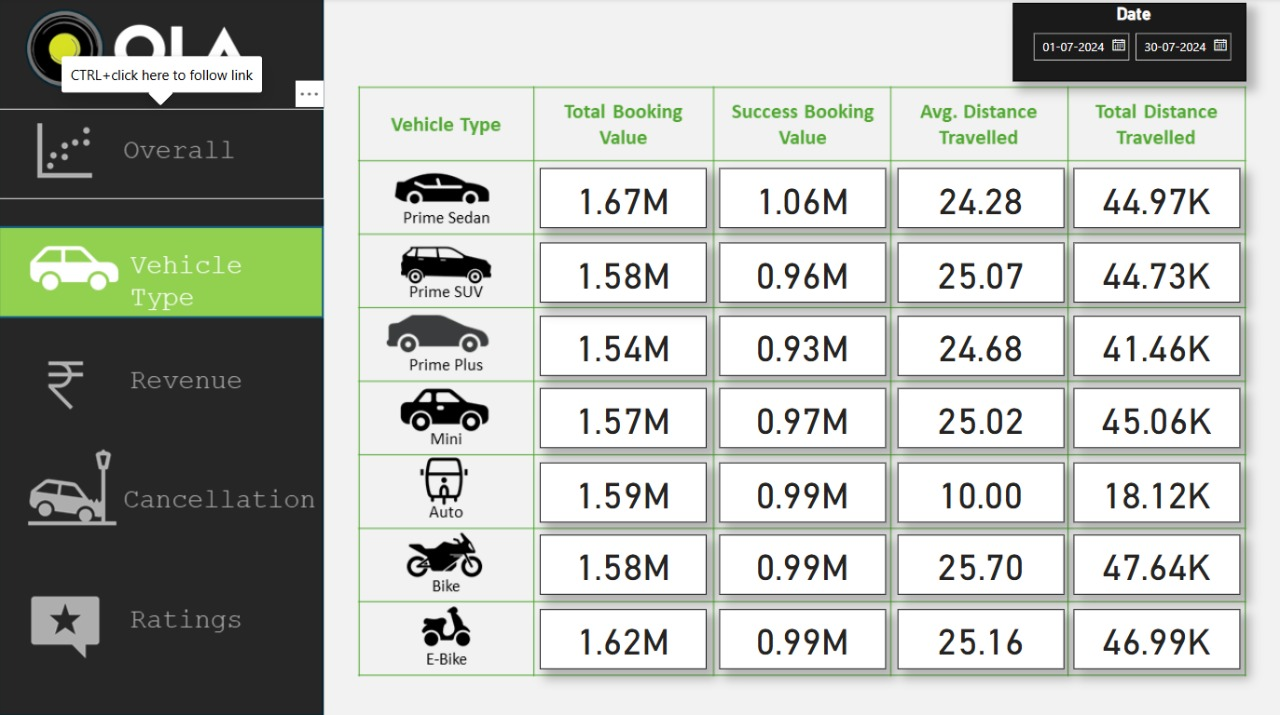

Layout of this report page (visuals, bound fields, positions):
{"tool":"powerbi","page":{"name":"Vehicle Type","canvas":[1280,720],"ordinal":1},"visuals":[{"type":"actionButton","box":[0,228,324.5,90.5],"z":0},{"type":"actionButton","box":[0,340.2,324.5,88.1],"z":1000},{"type":"actionButton","box":[1.2,446.4,324.5,90.5],"z":2000},{"type":"actionButton","box":[0,580.3,324.5,94.1],"z":3000},{"type":"actionButton","box":[0,111,324.5,90.5],"z":4000},{"type":"card","fields":{"Values":["Sum(July.Booking_Value)"]},"box":[540,170,166.2,60],"z":5000},{"type":"card","fields":{"Values":["Sum(July.Booking_Value)"]},"box":[540,317.5,166.2,60],"z":6000},{"type":"card","fields":{"Values":["Sum(July.Booking_Value)"]},"box":[540,390,166.2,60],"z":7000},{"type":"card","fields":{"Values":["Sum(July.Booking_Value)"]},"box":[540,463.8,166.2,60],"z":8000},{"type":"card","fields":{"Values":["Sum(July.Booking_Value)"]},"box":[540,536.2,166.2,60],"z":9000},{"type":"card","fields":{"Values":["Sum(July.Booking_Value)"]},"box":[540,610,166.2,60],"z":10000},{"type":"card","fields":{"Values":["Sum(July.Booking_Value)"]},"box":[540,243.8,166.2,60],"z":11000},{"type":"card","fields":{"Values":["Sum(July.Booking_Value)"]},"box":[718.8,170,166.2,60],"z":12000},{"type":"card","fields":{"Values":["Sum(July.Booking_Value)"]},"box":[718.8,243.8,166.2,60],"z":13000},{"type":"card","fields":{"Values":["Sum(July.Booking_Value)"]},"box":[718.8,317.5,166.2,60],"z":14000},{"type":"card","fields":{"Values":["Sum(July.Booking_Value)"]},"box":[718.8,390,166.2,60],"z":15000},{"type":"card","fields":{"Values":["Sum(July.Booking_Value)"]},"box":[718.8,463.8,166.2,60],"z":16000},{"type":"card","fields":{"Values":["Sum(July.Booking_Value)"]},"box":[718.8,536.2,166.2,60],"z":17000},{"type":"card","fields":{"Values":["Sum(July.Booking_Value)"]},"box":[718.8,610,166.2,60],"z":18000},{"type":"card","fields":{"Values":["Avg(July.Ride_Distance)"]},"box":[896.2,170,166.2,60],"z":19000},{"type":"card","fields":{"Values":["Avg(July.Ride_Distance)"]},"box":[896.2,243.8,166.2,60],"z":20000},{"type":"card","fields":{"Values":["Avg(July.Ride_Distance)"]},"box":[896.2,317.5,166.2,60],"z":21000},{"type":"card","fields":{"Values":["Avg(July.Ride_Distance)"]},"box":[896.2,390,166.2,60],"z":22000},{"type":"card","fields":{"Values":["Avg(July.Ride_Distance)"]},"box":[896.2,463.8,166.2,60],"z":23000},{"type":"card","fields":{"Values":["Avg(July.Ride_Distance)"]},"box":[896.2,536.2,166.2,60],"z":24000},{"type":"card","fields":{"Values":["Avg(July.Ride_Distance)"]},"box":[896.2,610,166.2,60],"z":25000},{"type":"card","fields":{"Values":["Sum(July.Ride_Distance)"]},"box":[1072.5,170,166.2,60],"z":26000},{"type":"card","fields":{"Values":["Sum(July.Ride_Distance)"]},"box":[1072.5,243.8,166.2,60],"z":27000},{"type":"card","fields":{"Values":["Sum(July.Ride_Distance)"]},"box":[1072.5,317.5,166.2,60],"z":28000},{"type":"card","fields":{"Values":["Sum(July.Ride_Distance)"]},"box":[1072.5,390,166.2,60],"z":29000},{"type":"card","fields":{"Values":["Sum(July.Ride_Distance)"]},"box":[1072.5,463.8,166.2,60],"z":30000},{"type":"card","fields":{"Values":["Sum(July.Ride_Distance)"]},"box":[1072.5,536.2,166.2,60],"z":31000},{"type":"card","fields":{"Values":["Sum(July.Ride_Distance)"]},"box":[1072.5,610,166.2,60],"z":32000},{"type":"slicer","title":"Date","fields":{"Values":["July.Date"]},"box":[1011.2,5,232.5,78.8],"z":32001}]}

Visuals, with their boxes on the page's 1280x720 design canvas (x1, y1, x2, y2). These are canvas units, not pixel positions in the 1280x715 screenshot, which may show the page scaled, cropped or inside an application window:
actionButton: 0 228 324 318
actionButton: 0 340 324 428
actionButton: 1 446 326 537
actionButton: 0 580 324 674
actionButton: 0 111 324 202
card - Sum(July.Booking_Value): 540 170 706 230
card - Sum(July.Booking_Value): 540 318 706 378
card - Sum(July.Booking_Value): 540 390 706 450
card - Sum(July.Booking_Value): 540 464 706 524
card - Sum(July.Booking_Value): 540 536 706 596
card - Sum(July.Booking_Value): 540 610 706 670
card - Sum(July.Booking_Value): 540 244 706 304
card - Sum(July.Booking_Value): 719 170 885 230
card - Sum(July.Booking_Value): 719 244 885 304
card - Sum(July.Booking_Value): 719 318 885 378
card - Sum(July.Booking_Value): 719 390 885 450
card - Sum(July.Booking_Value): 719 464 885 524
card - Sum(July.Booking_Value): 719 536 885 596
card - Sum(July.Booking_Value): 719 610 885 670
card - Avg(July.Ride_Distance): 896 170 1062 230
card - Avg(July.Ride_Distance): 896 244 1062 304
card - Avg(July.Ride_Distance): 896 318 1062 378
card - Avg(July.Ride_Distance): 896 390 1062 450
card - Avg(July.Ride_Distance): 896 464 1062 524
card - Avg(July.Ride_Distance): 896 536 1062 596
card - Avg(July.Ride_Distance): 896 610 1062 670
card - Sum(July.Ride_Distance): 1072 170 1239 230
card - Sum(July.Ride_Distance): 1072 244 1239 304
card - Sum(July.Ride_Distance): 1072 318 1239 378
card - Sum(July.Ride_Distance): 1072 390 1239 450
card - Sum(July.Ride_Distance): 1072 464 1239 524
card - Sum(July.Ride_Distance): 1072 536 1239 596
card - Sum(July.Ride_Distance): 1072 610 1239 670
"Date" slicer: 1011 5 1244 84
